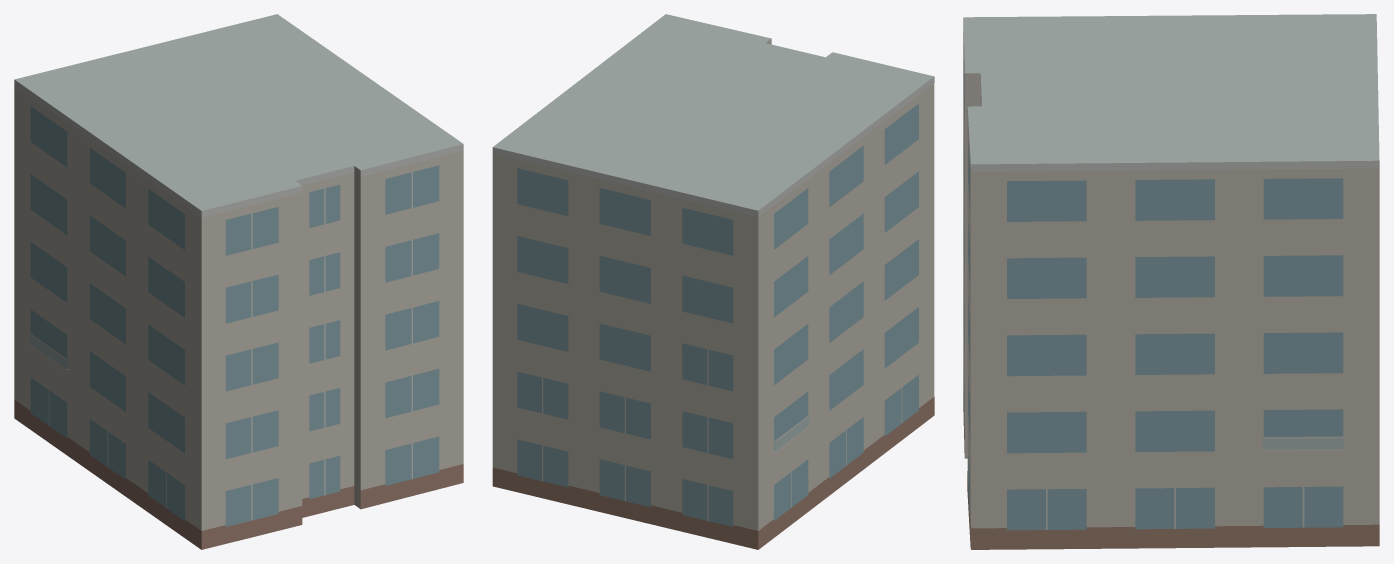
The model's file is survey-upis-32748344.glb.
The picture shows the model from 3 angles, left to right: view 1: azimuth 30°, elevation 25°; view 2: azimuth 150°, elevation 25°; view 3: azimuth 270°, elevation 25°; orthographic projection. The views are drawn at different scales.
Visible parts, largest first — view 1: survey-upis-32748344.tmp; view 2: survey-upis-32748344.tmp; view 3: survey-upis-32748344.tmp.
Boxes of the visible parts, <box> form: survey-upis-32748344.tmp: <box>14,14,463,549</box>; survey-upis-32748344.tmp: <box>492,14,934,549</box>; survey-upis-32748344.tmp: <box>963,14,1379,549</box>.
Size of the model in its own units: 10.57 by 12.6 by 12.34.
